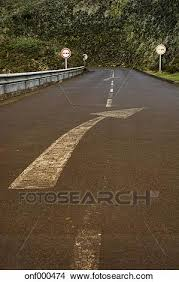strada: (1, 69, 179, 267)
